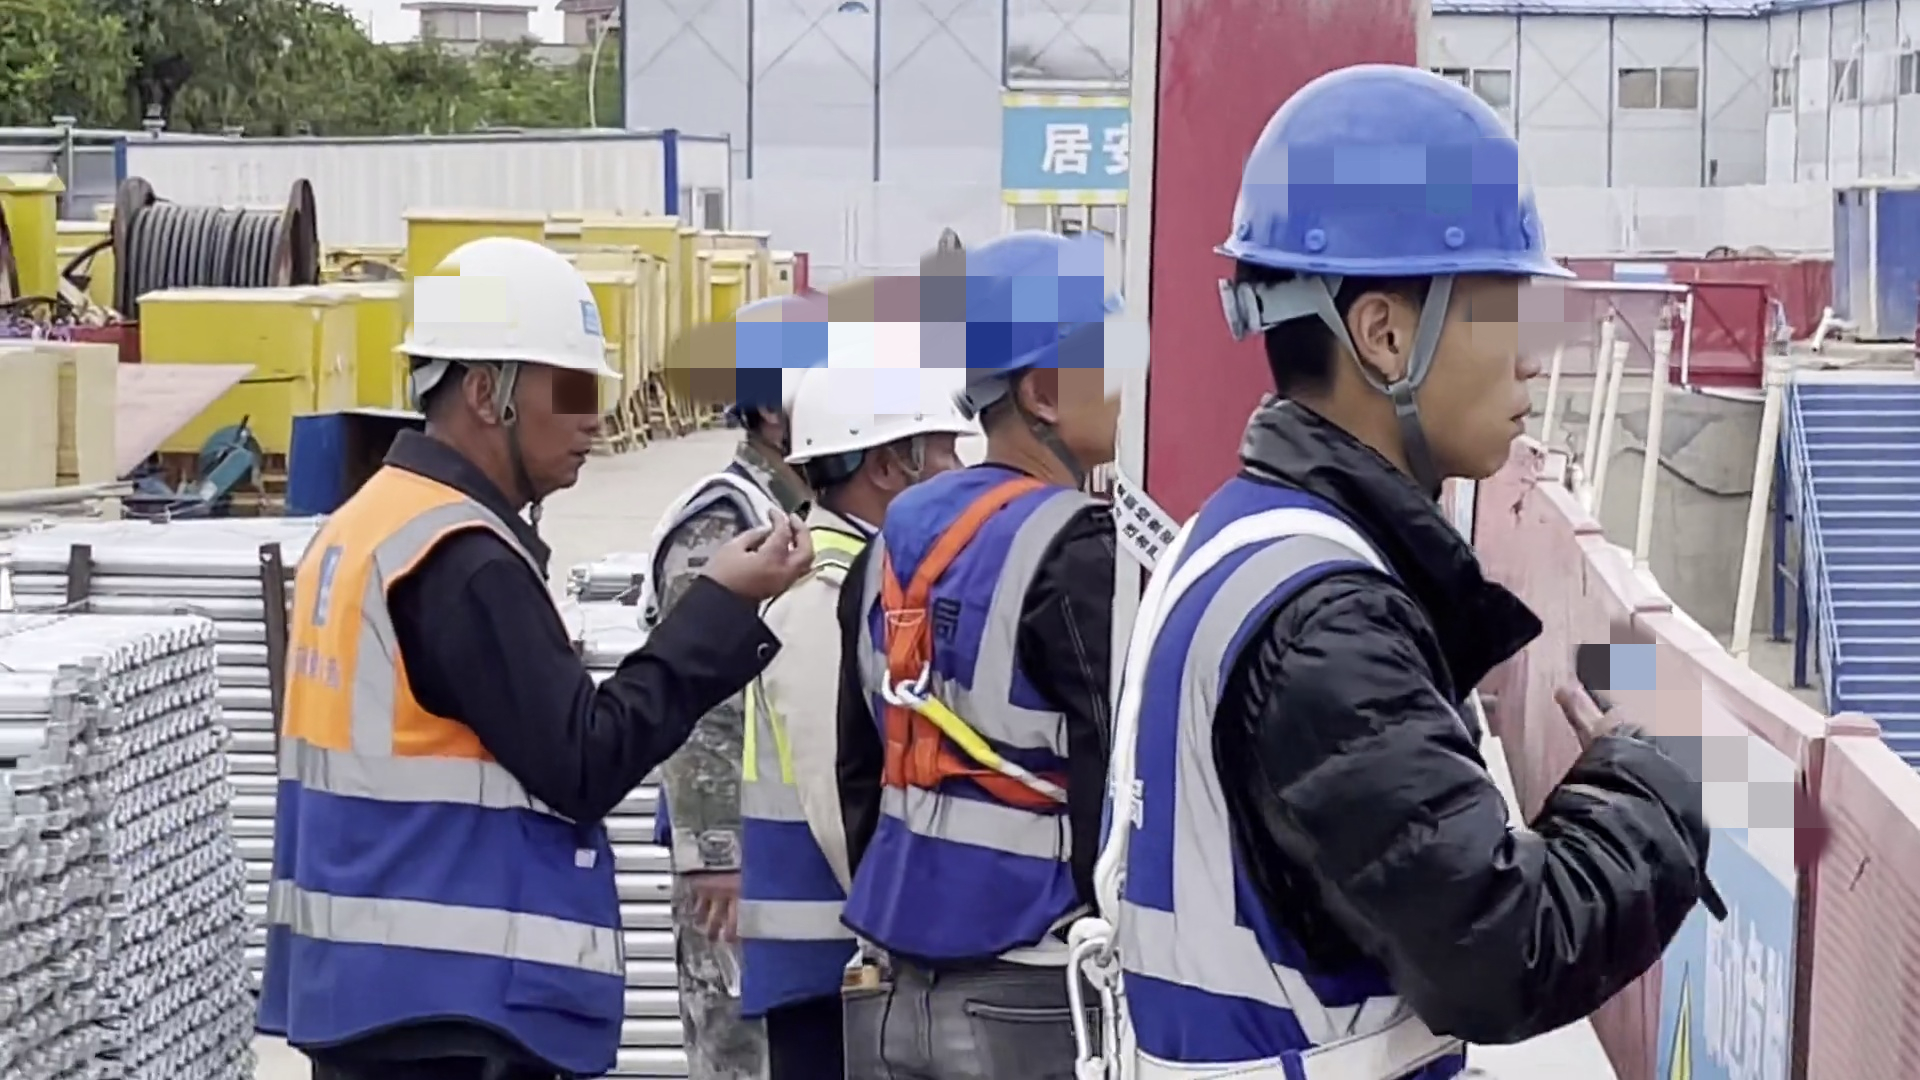board: (1, 322, 117, 484)
ebox: (135, 273, 350, 468), (597, 207, 700, 458), (397, 195, 554, 277), (336, 275, 401, 432), (695, 211, 801, 300), (1, 183, 71, 299)
fence: (1405, 410, 1863, 1039)
helmet: (1203, 32, 1577, 304), (387, 234, 656, 431), (960, 237, 1149, 385), (778, 354, 967, 472), (717, 298, 838, 432)
person: (1096, 82, 1737, 1080), (257, 228, 820, 1080), (837, 182, 1131, 1079), (765, 341, 975, 1080), (650, 289, 807, 1080)
scaffold: (63, 524, 314, 1043), (86, 608, 266, 1080), (3, 670, 129, 1056)
slogan: (1639, 777, 1794, 1079), (999, 98, 1154, 220)
vest: (254, 465, 645, 1080), (1106, 459, 1456, 1080), (841, 470, 1100, 1014), (750, 508, 889, 1027)
